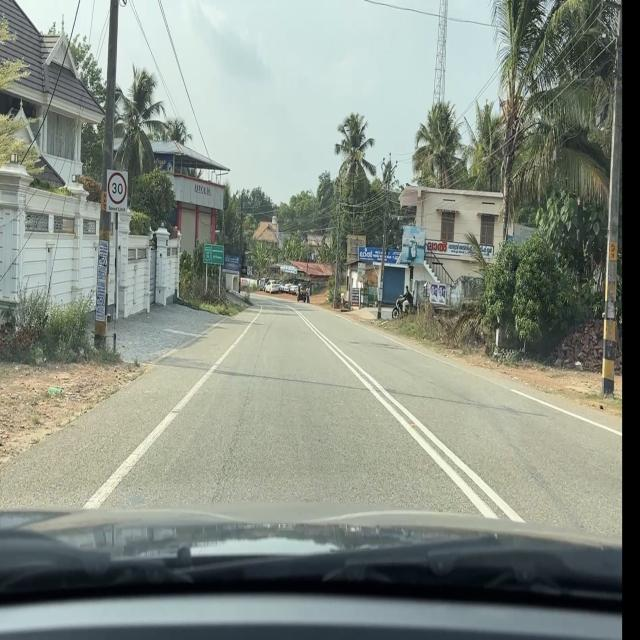GENERAL: (203, 243, 224, 266)
SPEED_LIMIT_30: (107, 169, 128, 214)
